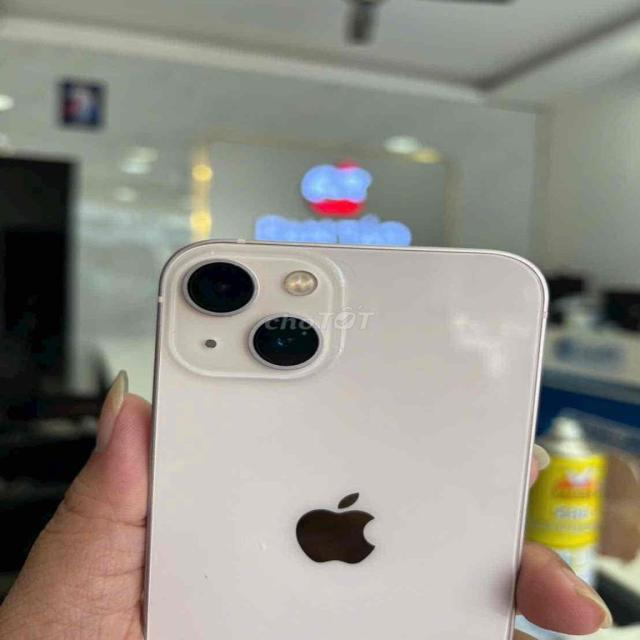gen_12_13: (140, 241, 552, 640)
